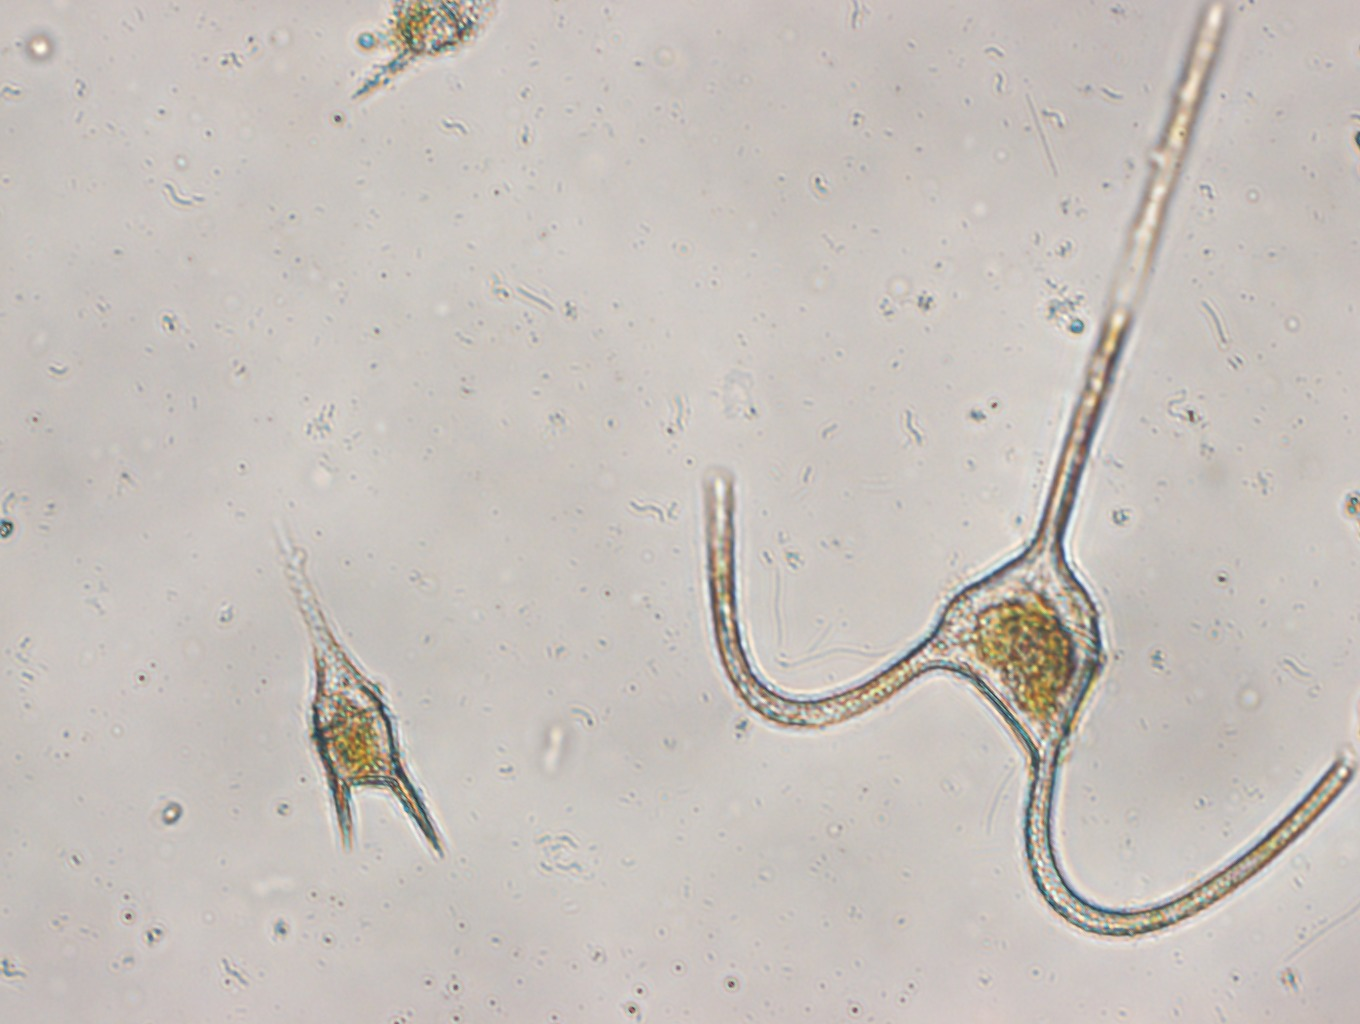ceratium furca: (264, 518, 452, 874)
ceratium trichoceros: (695, 3, 1360, 948)
